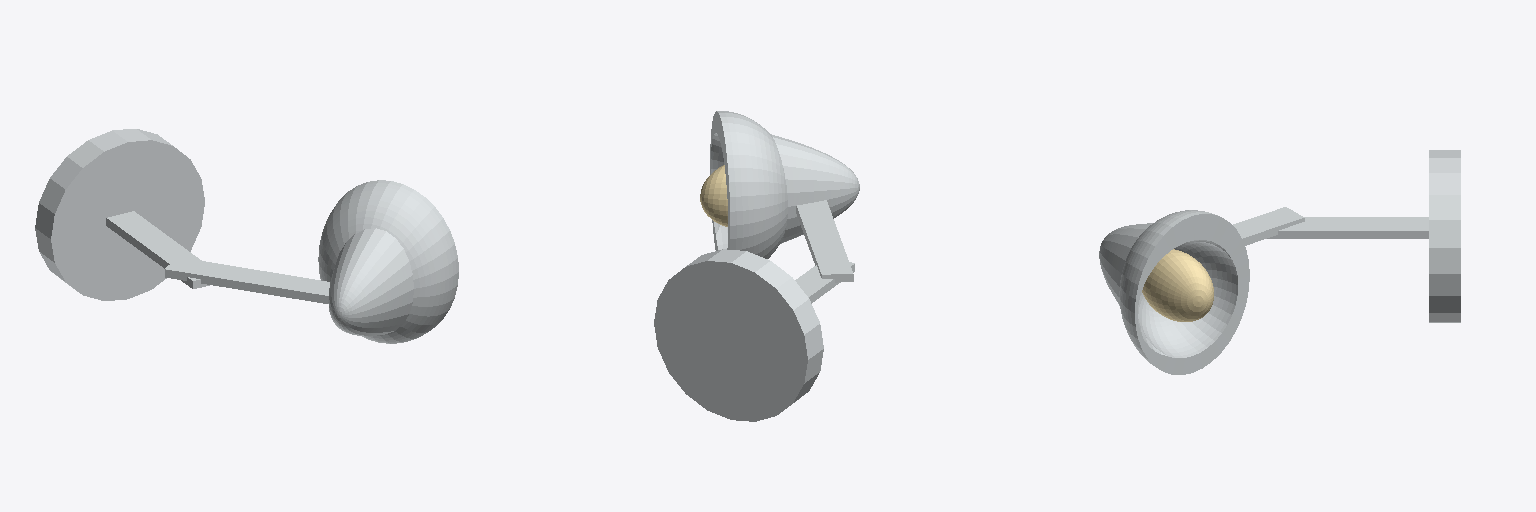
The model's file is tinker.obj.
3 renders of one model, left to right at view 1: azimuth 30°, elevation 25°; view 2: azimuth 150°, elevation 25°; view 3: azimuth 270°, elevation 25°, orthographic.
Visible parts, largest first — view 1: obj_0; view 2: obj_0; view 3: obj_0.
Part boxes in pixels (left/top/right/bottom): obj_0: left=35, top=129, right=458, bottom=343; obj_0: left=654, top=111, right=859, bottom=421; obj_0: left=1099, top=150, right=1460, bottom=374.
Size of the model in its own units: 66.03 by 41 by 79.22.